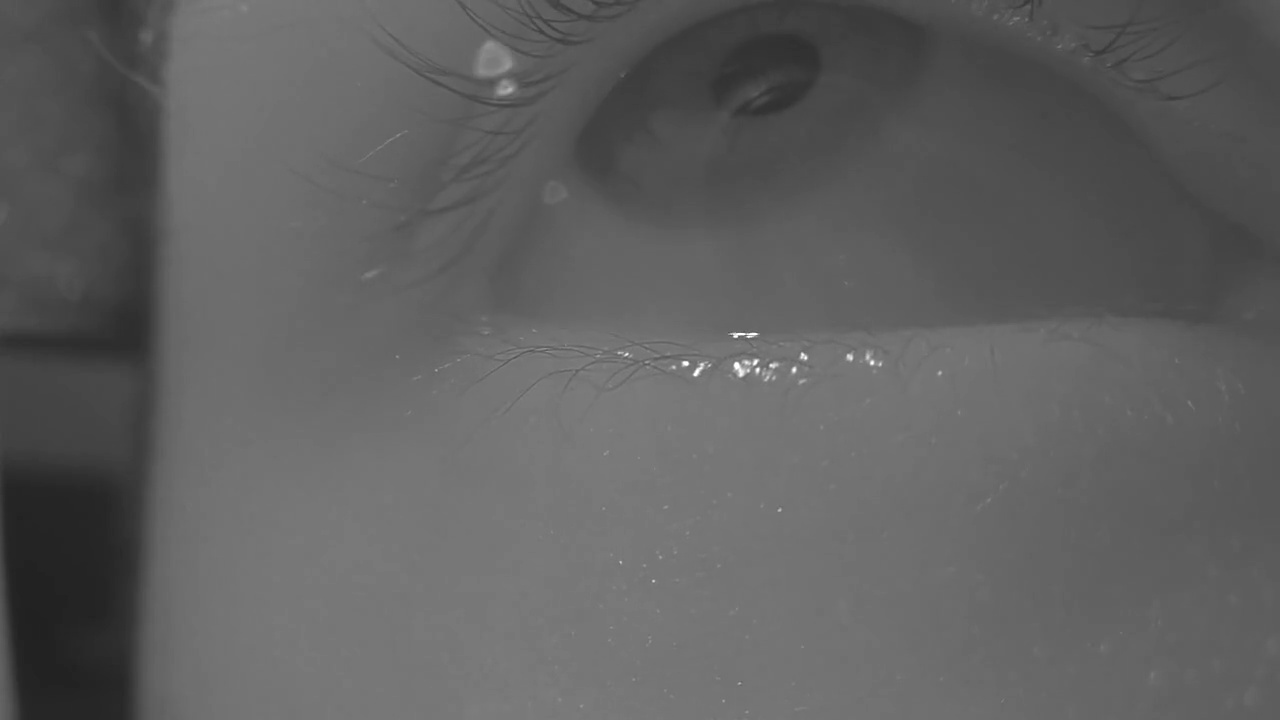pupil: (713, 34, 818, 116)
